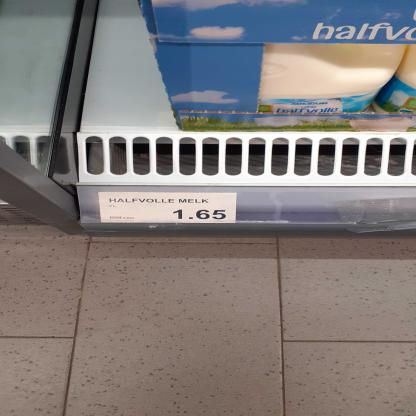prtg: (99, 193, 239, 224)
